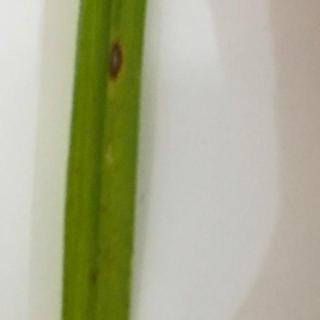Blast: (101, 21, 139, 97)
